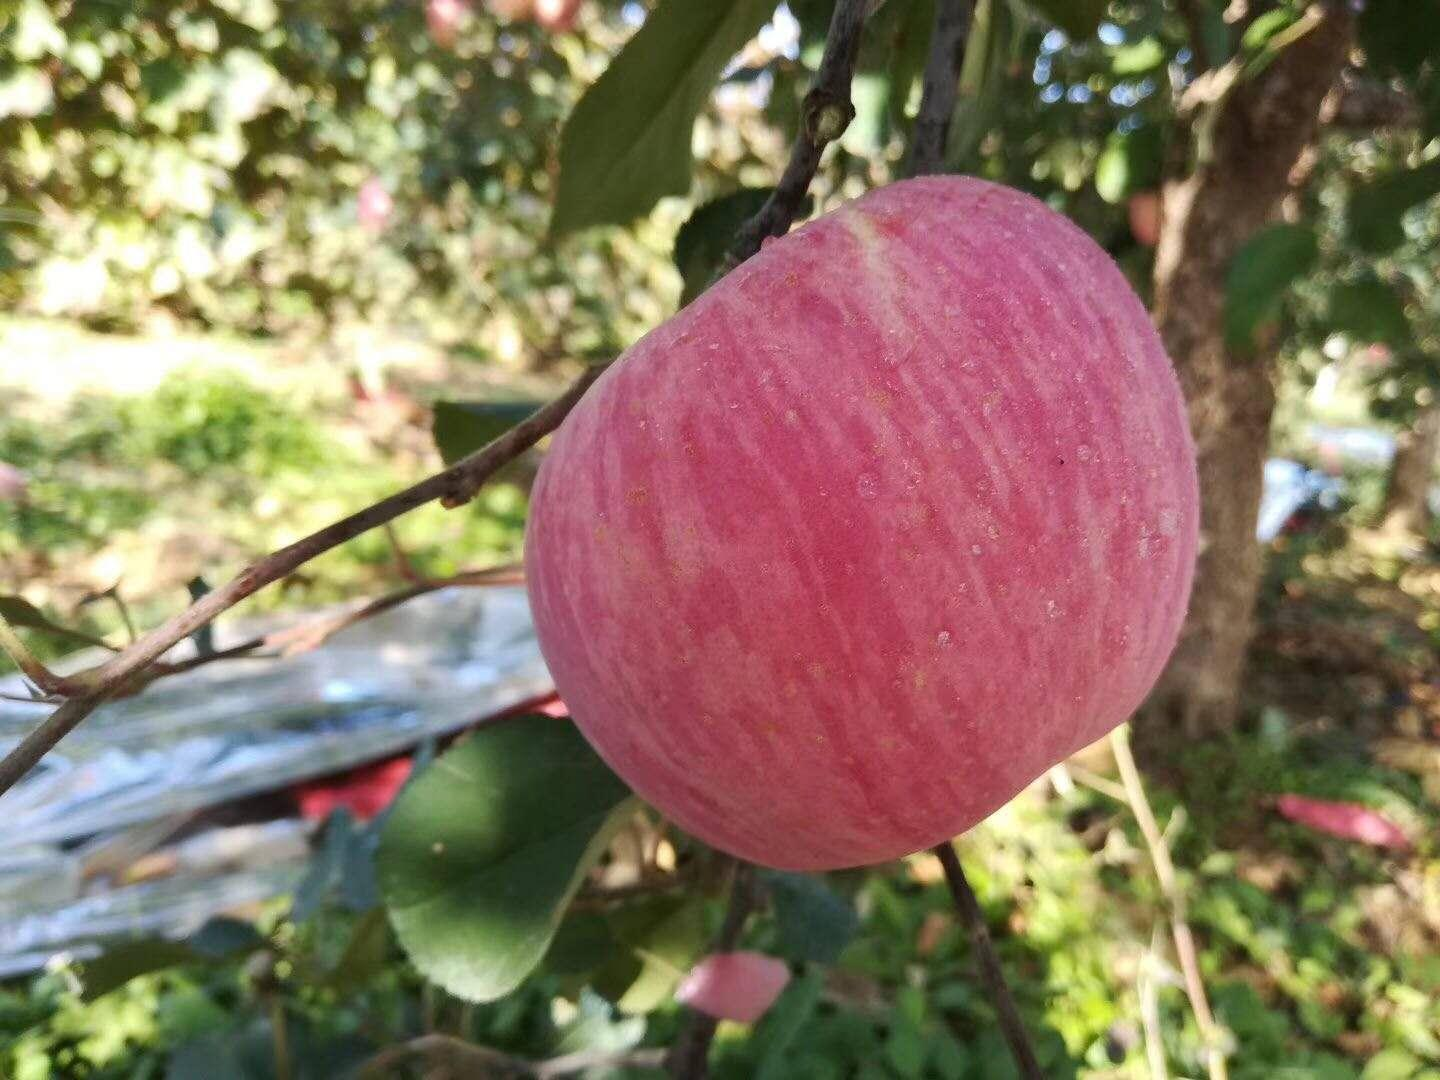apple: (523, 168, 1194, 906)
